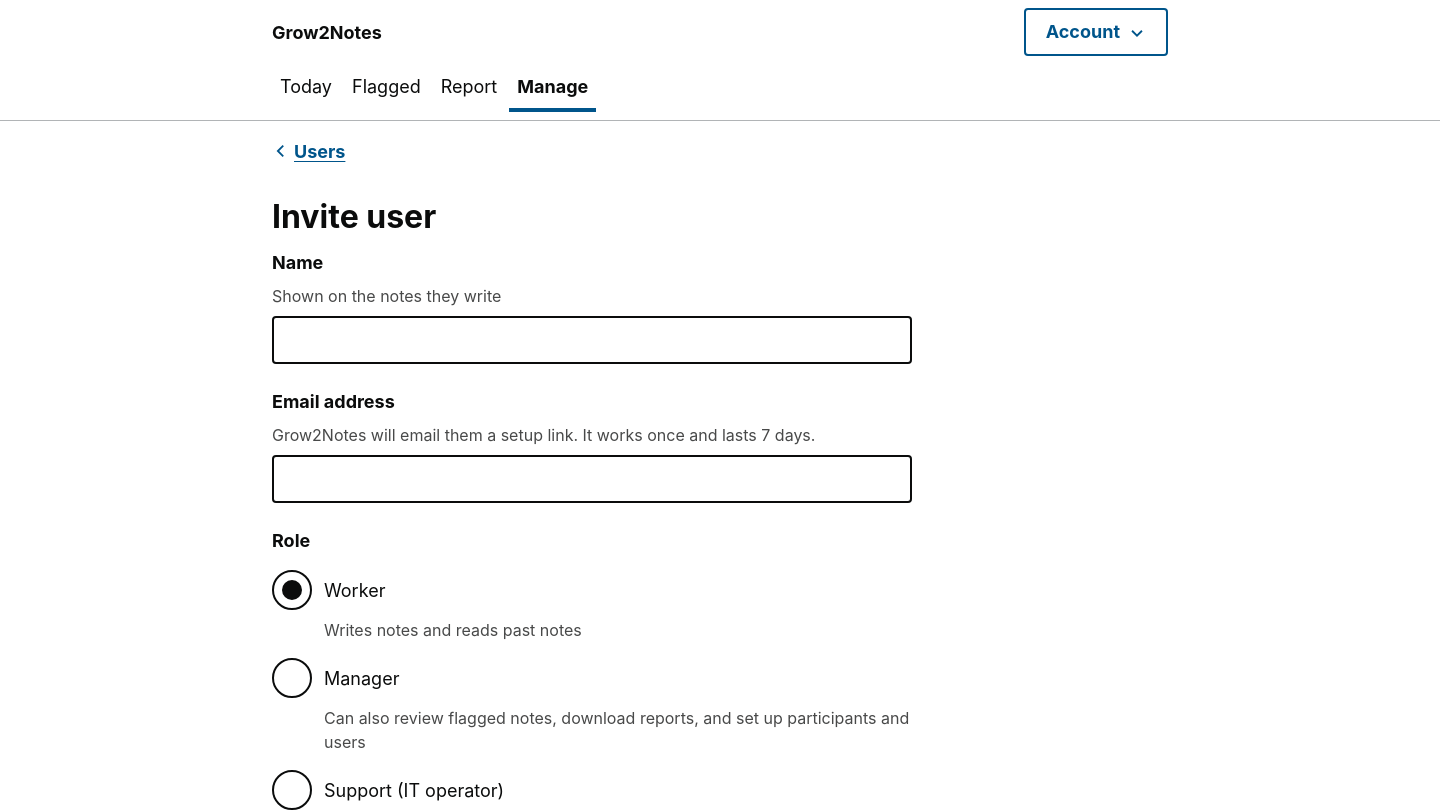
Invite user, sending › shows the list on 201 when it was never loaded, which it then loads itself
Type " Alex Park " into the field labelled "Name" at coordinates (592, 340), box 272,316 -> 912,364
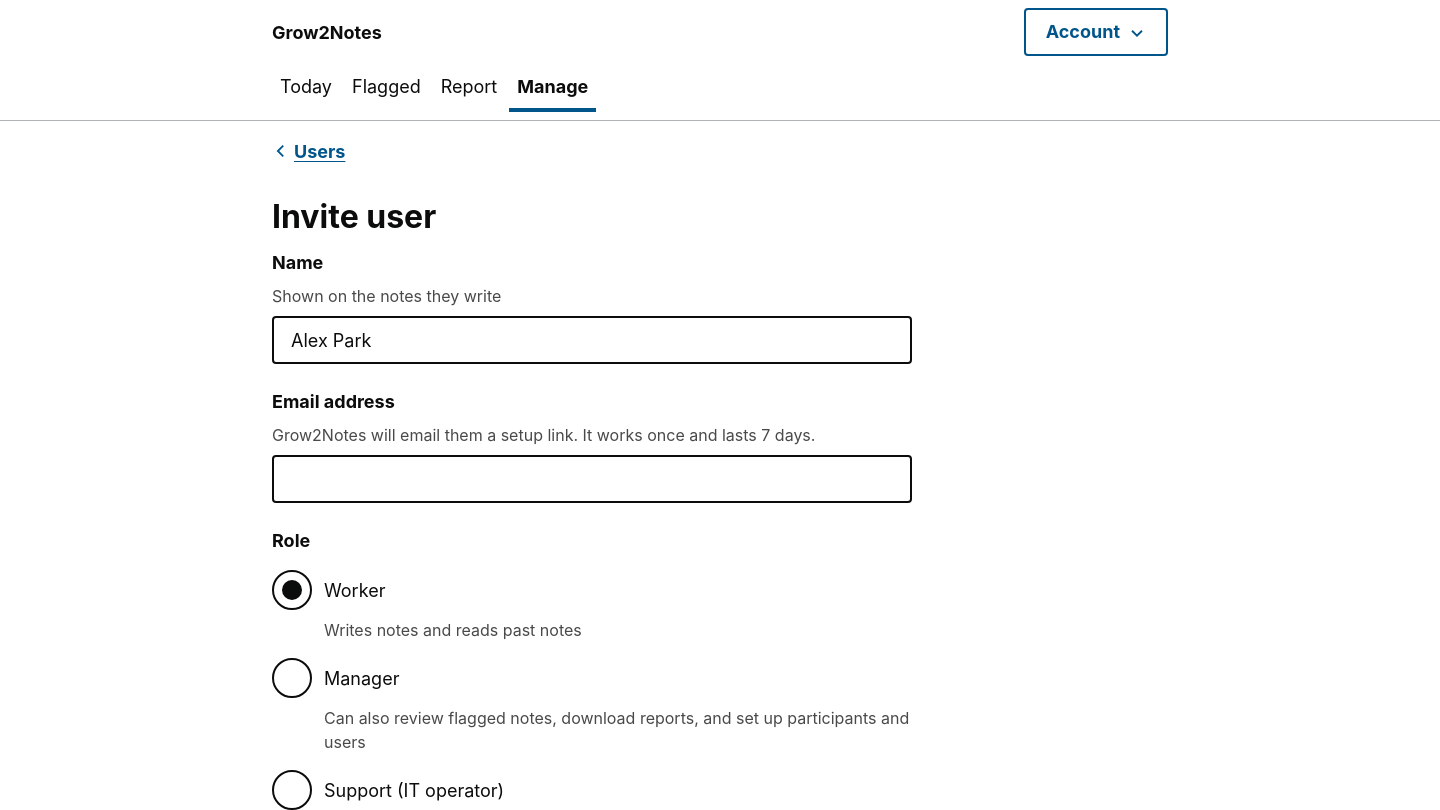
Type "alex.park@example.org" into the field labelled "Email address" at coordinates (592, 479), box 272,455 -> 912,503
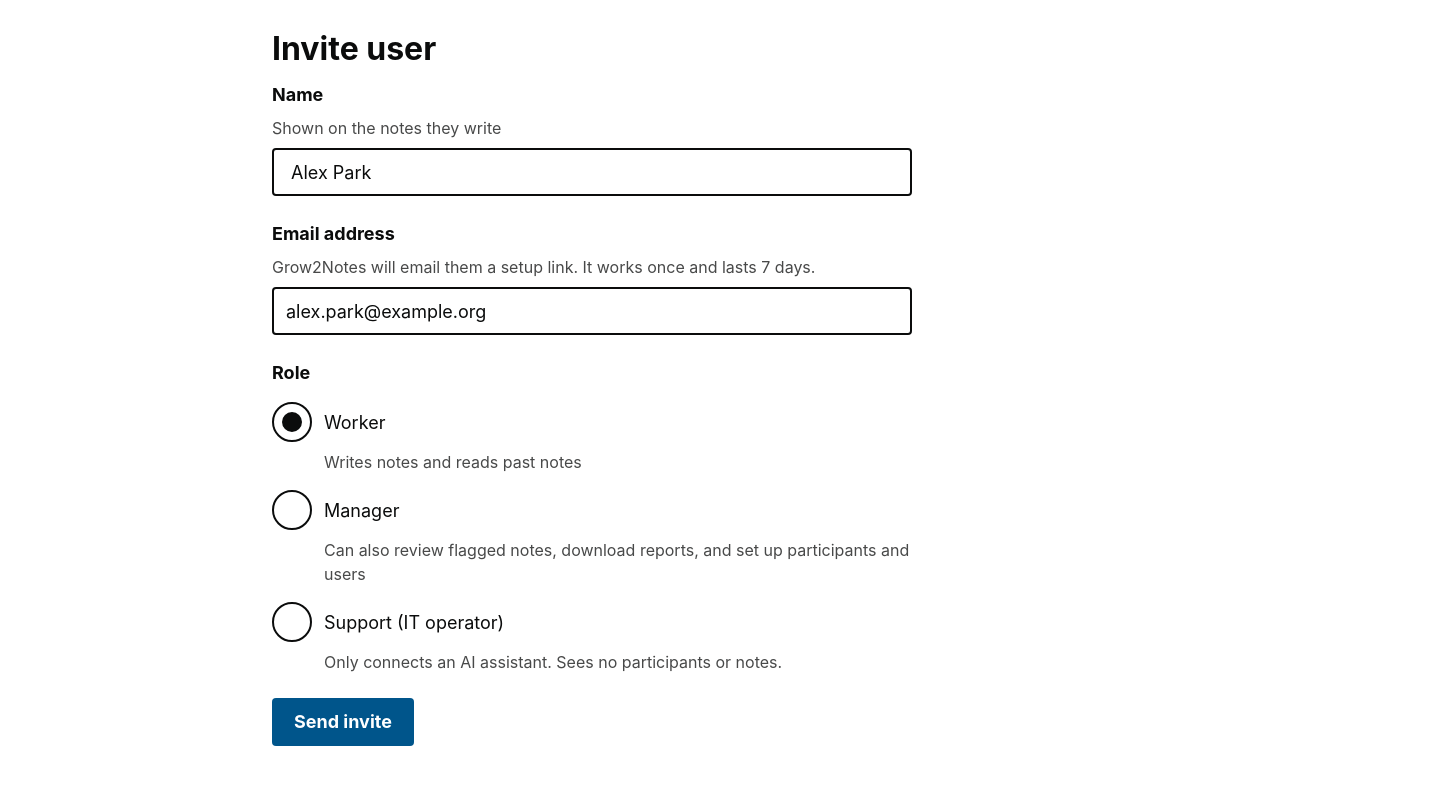
Click the button "Send invite" at coordinates (343, 722), box 272,698 -> 414,746
Wait 4 ms
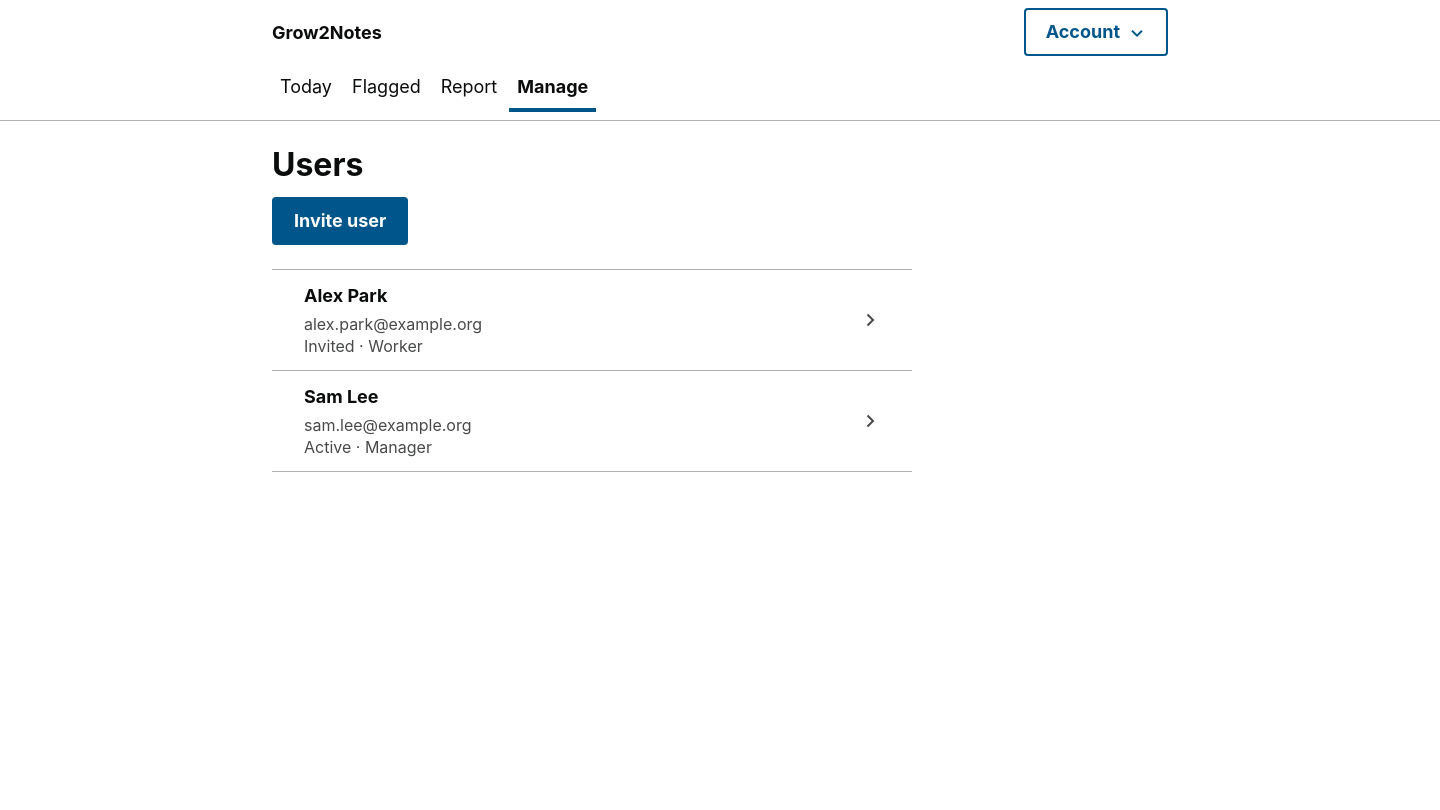
expect the link "Alex Park" is shown: met, box 304,285 -> 387,306
